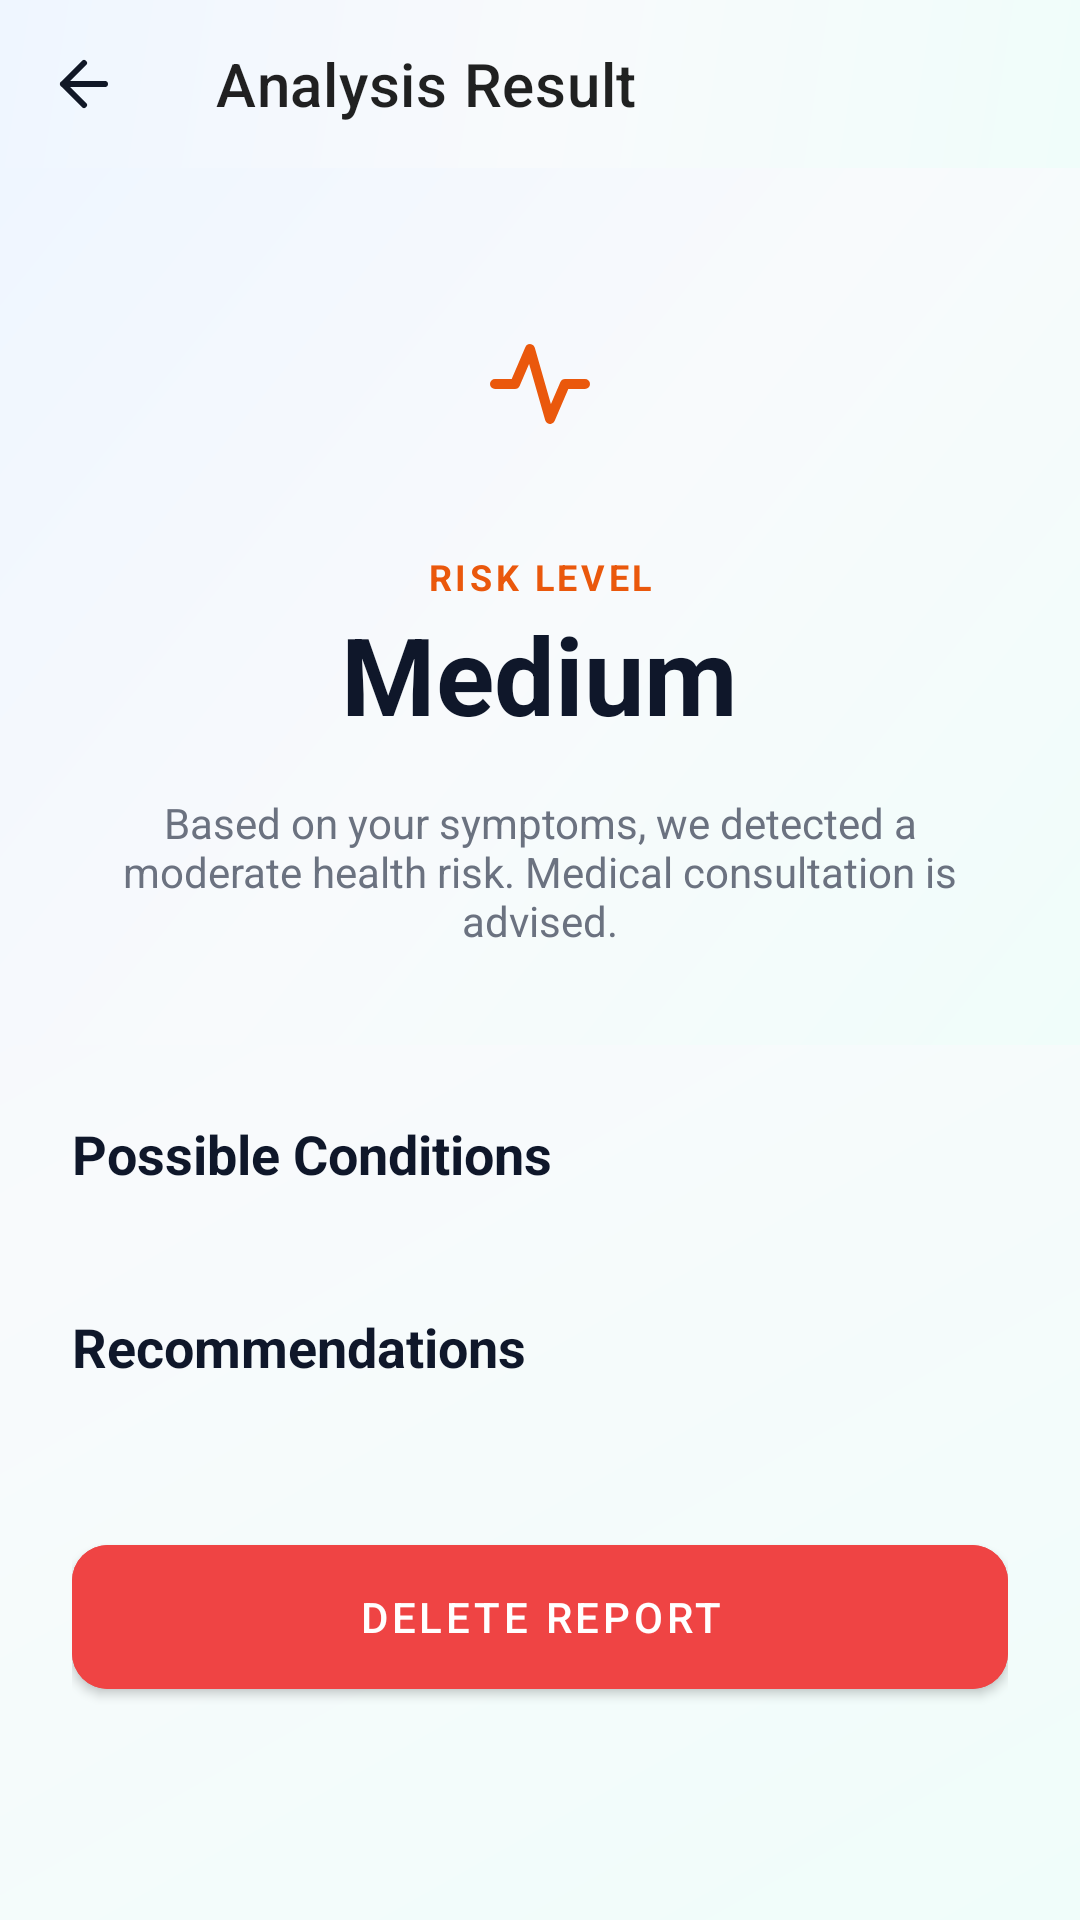

Named icons in this screenshot (1080*1920) and their centers, (x,y):
pulse: (540,384)
